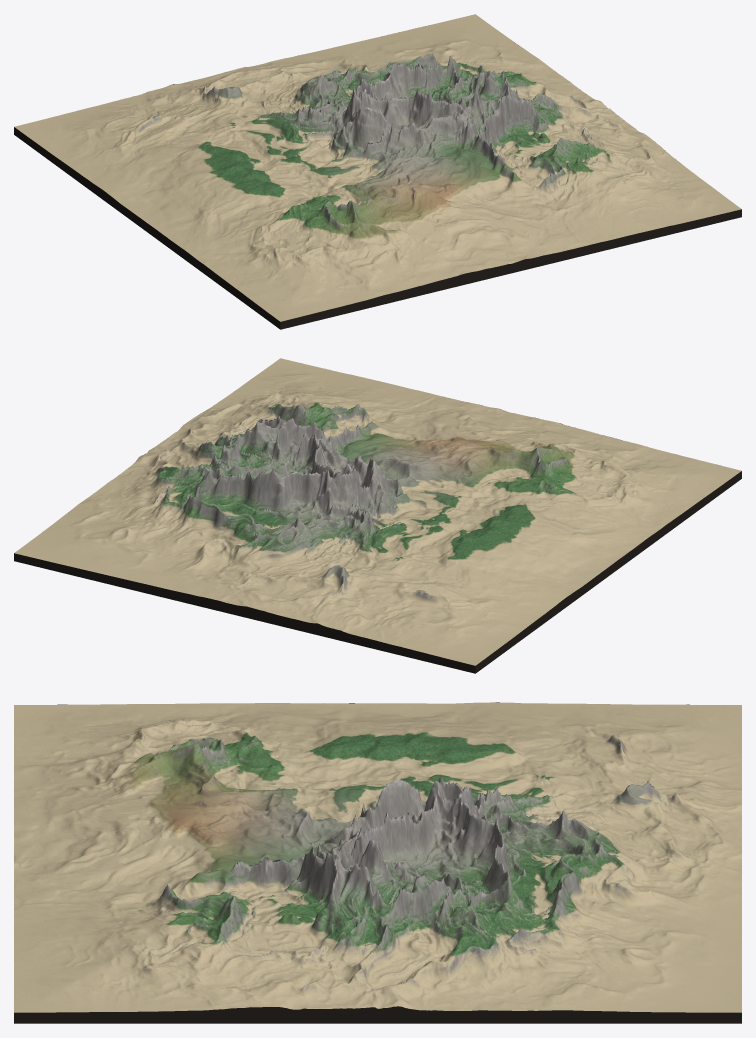
Rendered from island-terrain.glb.
3 views of the same model, one above another, from view 1: azimuth 30°, elevation 25°; view 2: azimuth 150°, elevation 25°; view 3: azimuth 270°, elevation 25° (orthographic). The views are drawn at different scales.
Parts seen in each view (by area): view 1: Terrain_Surface, Terrain_Base_Slab; view 2: Terrain_Surface, Terrain_Base_Slab; view 3: Terrain_Surface, Terrain_Base_Slab.
Part boxes in pixels (<box>): Terrain_Surface: <box>14,14,741,321</box>; Terrain_Base_Slab: <box>14,84,741,329</box>; Terrain_Surface: <box>14,358,741,665</box>; Terrain_Base_Slab: <box>14,409,741,673</box>; Terrain_Surface: <box>14,702,741,1012</box>; Terrain_Base_Slab: <box>14,702,741,1023</box>.
Size of the model in its own units: 2048 by 296 by 2048.
Materials: 2 (1 with a texture image).
